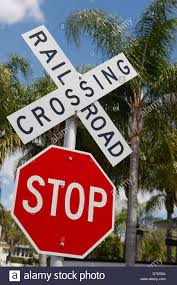Stop: (15, 134, 122, 260)
